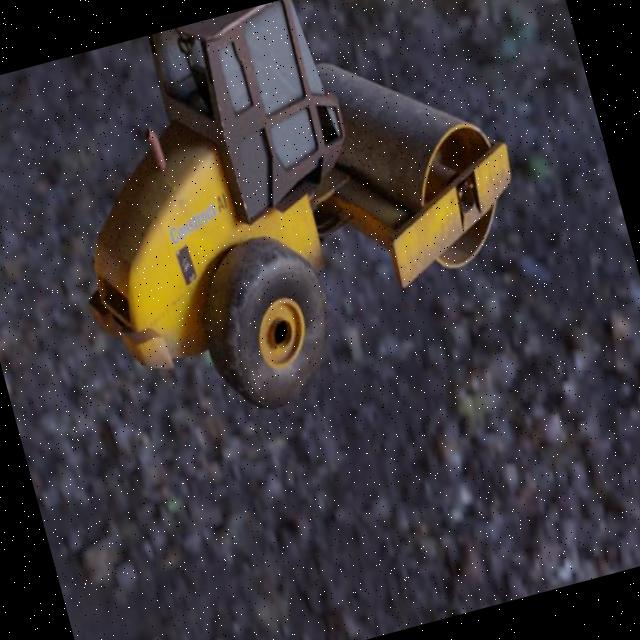Roller: (23, 0, 555, 449)
